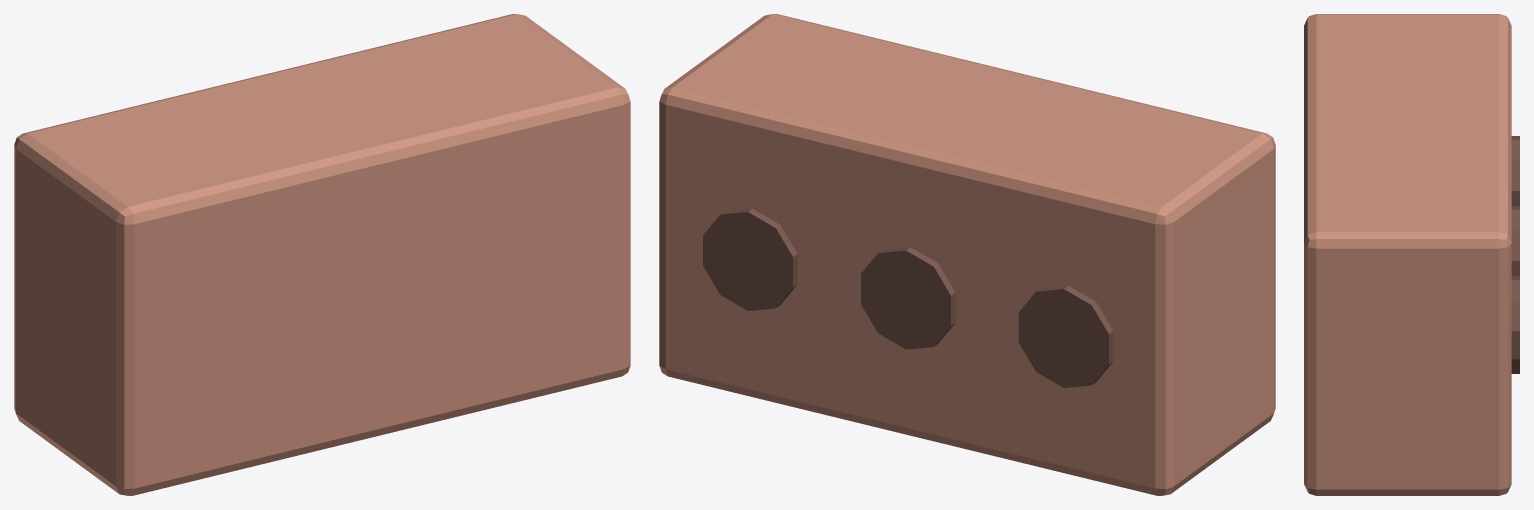
The model's file is brick_held.gltf.
3 views of the same model, side by side, from view 1: azimuth 30°, elevation 25°; view 2: azimuth 150°, elevation 25°; view 3: azimuth 270°, elevation 25° (orthographic). The views are drawn at different scales.
Visible parts, largest first — view 1: rocks_brick_held; view 2: rocks_brick_held; view 3: rocks_brick_held.
Boxes of the visible parts, x1,y1,x2,y2 form: rocks_brick_held: (14, 14, 630, 495); rocks_brick_held: (659, 14, 1275, 495); rocks_brick_held: (1304, 14, 1519, 495).
Bounding box in the file's own units: 0.13 × 0.07 × 0.052.
